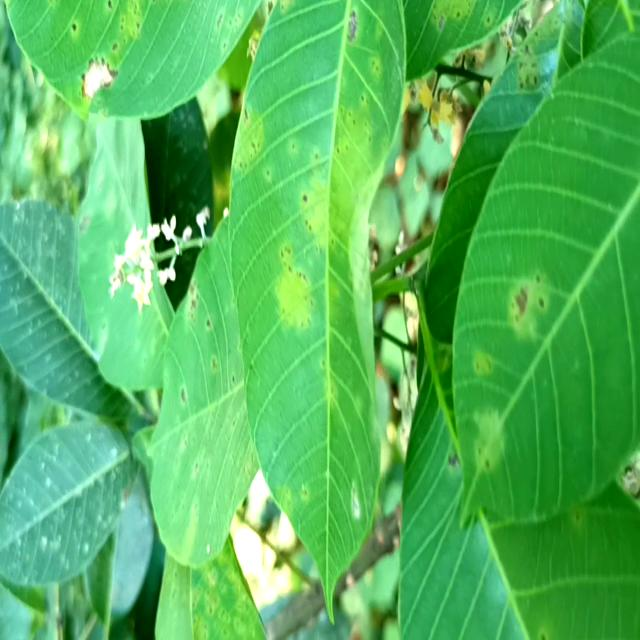Leaf-Blight: (84, 58, 112, 98)
